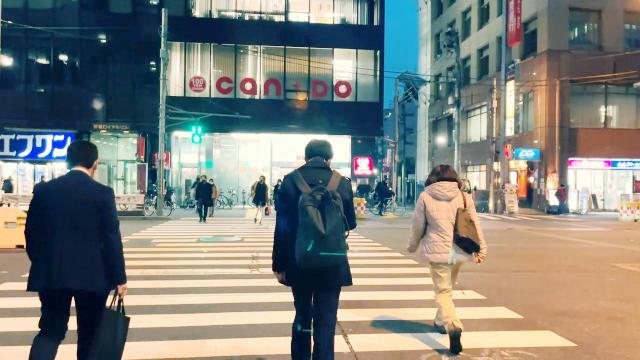berjalan: (18, 140, 134, 360), (267, 138, 359, 360), (406, 158, 486, 360)
